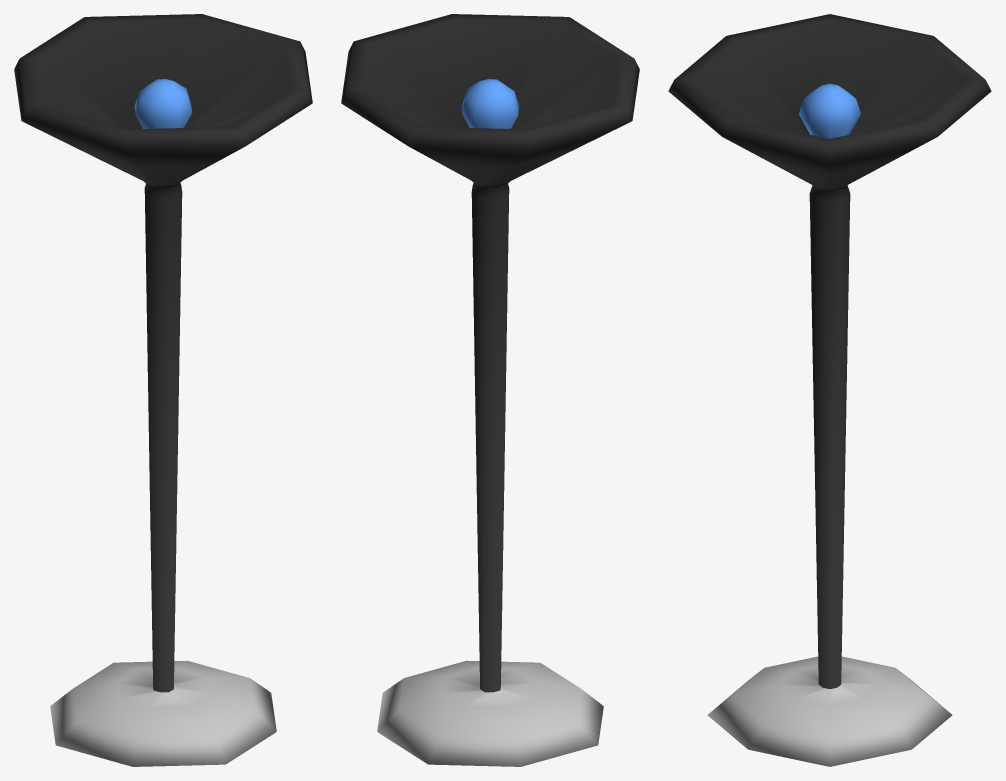
The model's file is GAMEJAMHERO - Prop(Tall Lamp).fbx.
3 renders of one model, left to right at view 1: azimuth 30°, elevation 25°; view 2: azimuth 150°, elevation 25°; view 3: azimuth 270°, elevation 25°, orthographic.
Parts seen in each view (by area): view 1: Cube.018; view 2: Cube.018; view 3: Cube.018.
Part boxes in pixels (box(x1,y1,x2,y2)): Cube.018: box(14, 14, 312, 766); Cube.018: box(341, 14, 639, 766); Cube.018: box(668, 14, 991, 766).
Bounding box in the file's own units: 112 × 243 × 112.
Materials: 1 (1 with a texture image).
